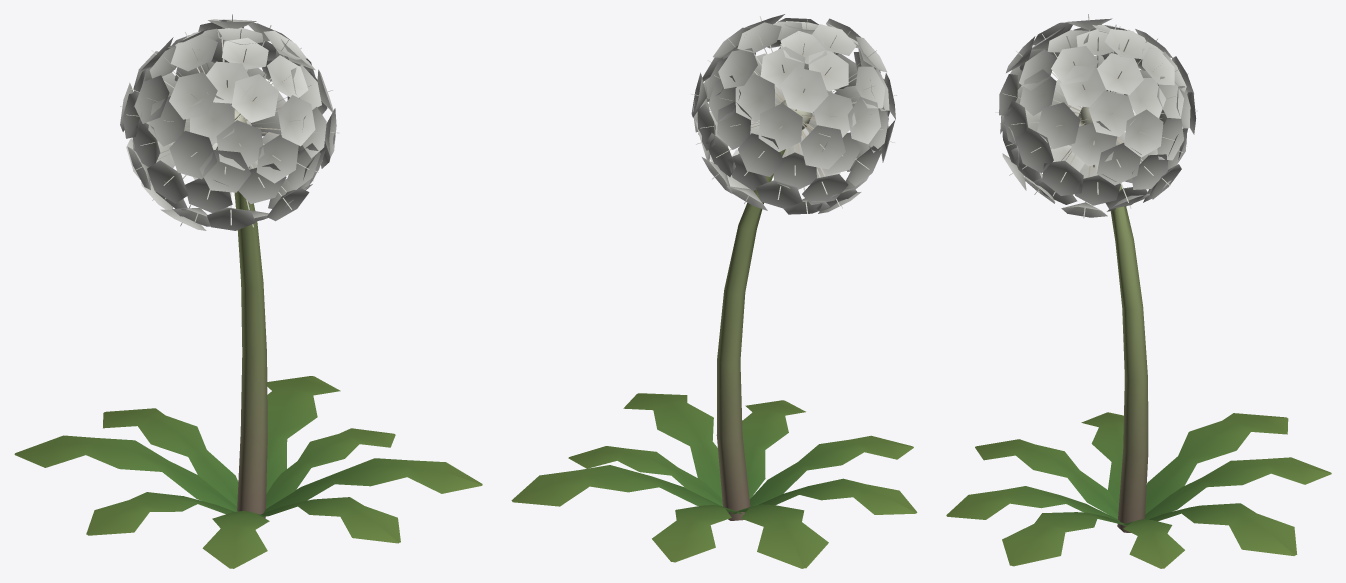
File: dandelion_clock.glb
The picture shows the model from 3 angles, left to right: view 1: azimuth 30°, elevation 25°; view 2: azimuth 150°, elevation 25°; view 3: azimuth 270°, elevation 25°; orthographic projection. The views are drawn at different scales.
Parts seen in each view (by area): view 1: dandelion_clock; view 2: dandelion_clock; view 3: dandelion_clock.
Boxes of the visible parts, <box> form: dandelion_clock: <box>14,14,482,568</box>; dandelion_clock: <box>511,14,917,568</box>; dandelion_clock: <box>946,14,1331,568</box>.
Bounding box in the file's own units: 2.06 × 2.94 × 2.13.
